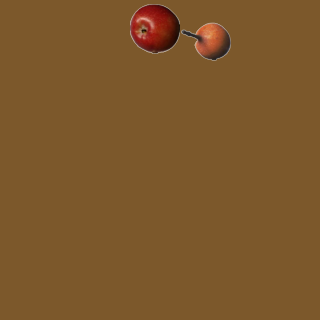Apple Braeburn: (129, 3, 179, 53)
Granadilla: (180, 16, 230, 66)
